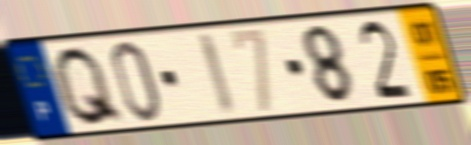0: (108, 37, 164, 125)
2: (358, 18, 416, 104)
7: (227, 28, 273, 115)
8: (301, 22, 356, 108)
I: (193, 29, 239, 118)
Q: (50, 43, 129, 130)
